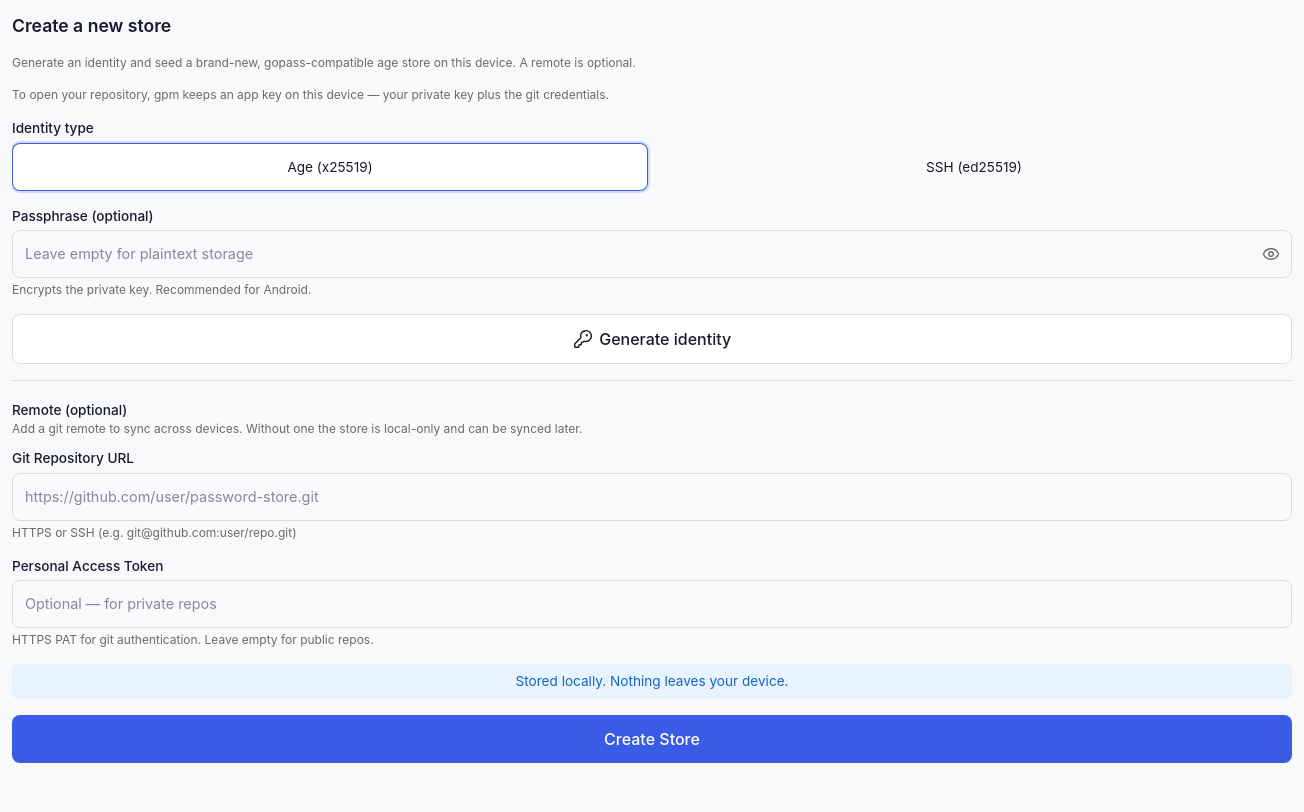
CreateFlow › renders the public recipient but never holds a secret
Click the button "Generate identity": (652, 339) [12,314,1292,364]
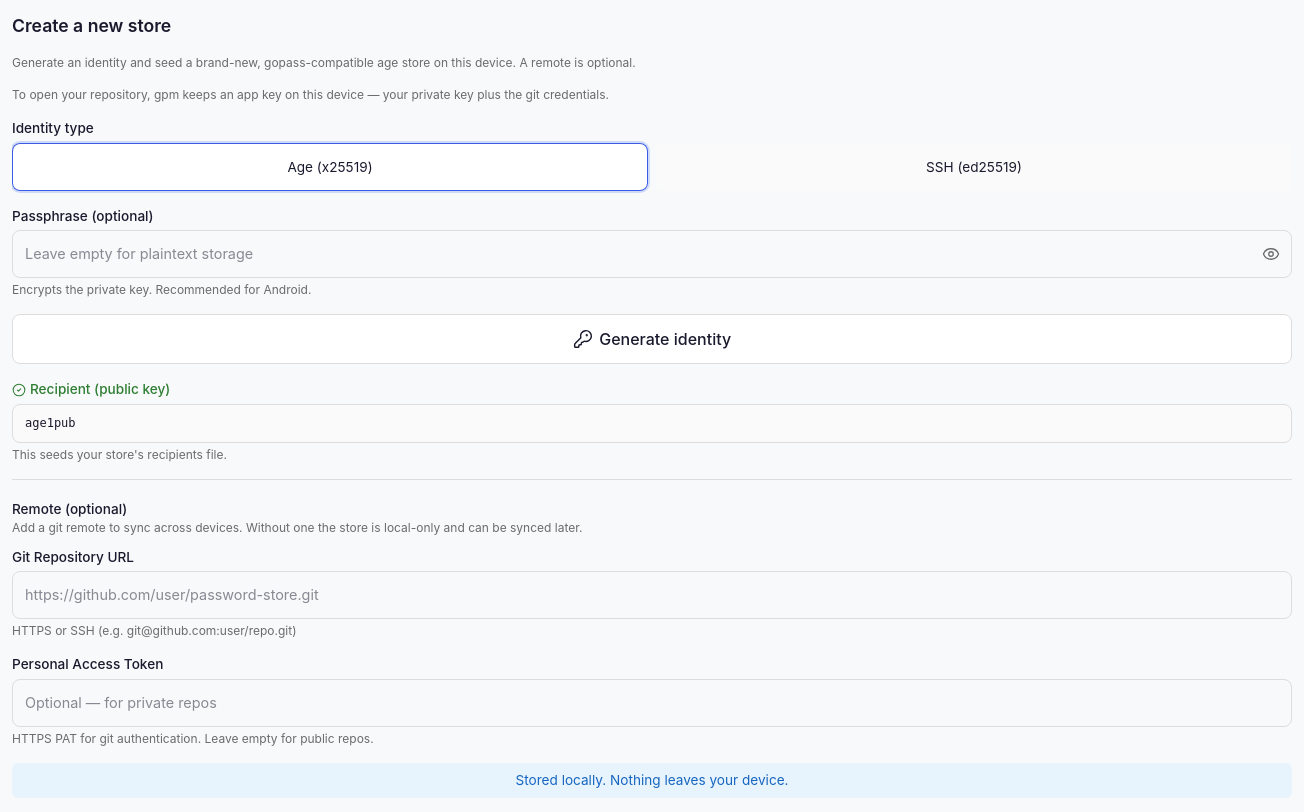
Result: the text "age1pub" is shown at [12,404,1292,443]
